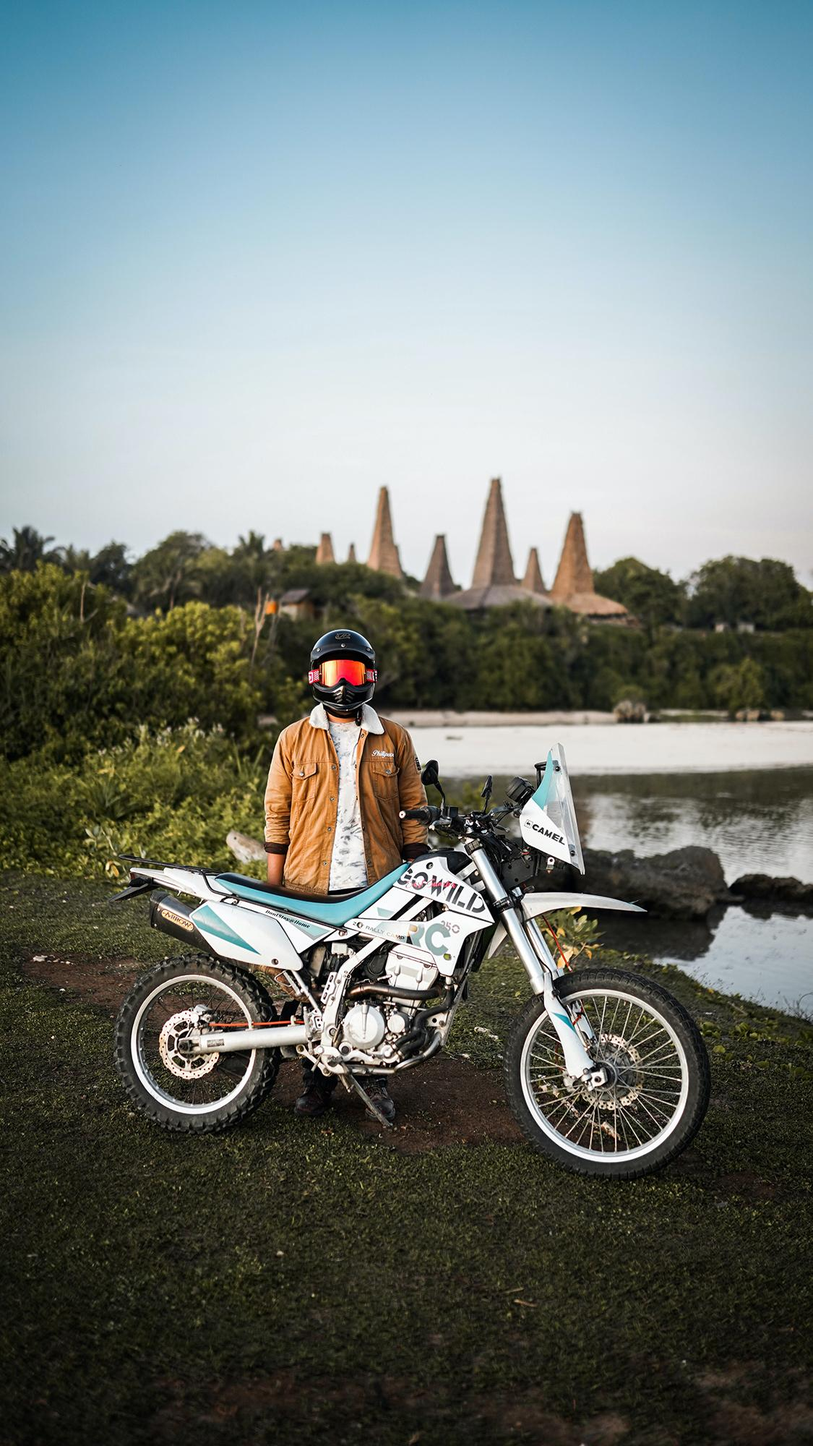helmet: (307, 628, 379, 727)
